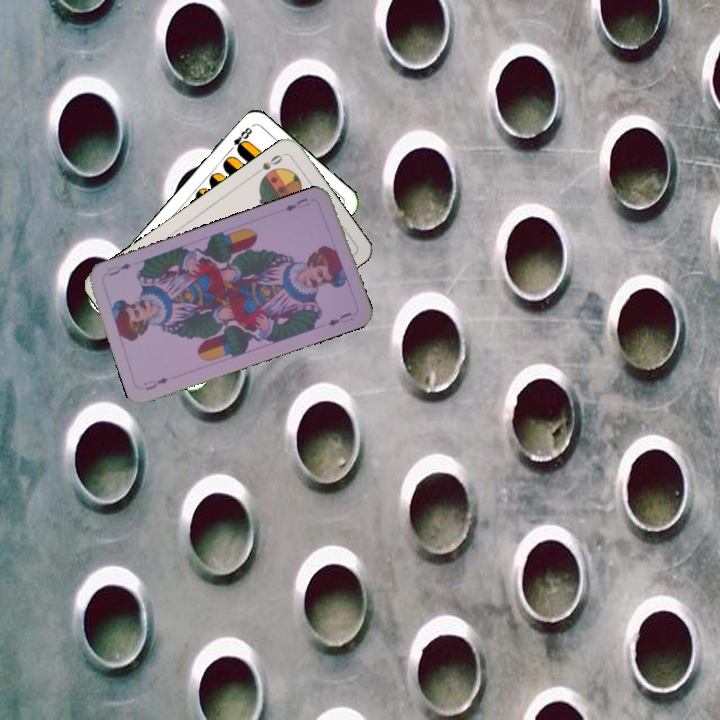E8: (224, 122, 255, 155)
EU: (139, 373, 171, 393), (281, 193, 310, 214)
SO: (251, 150, 285, 177)
